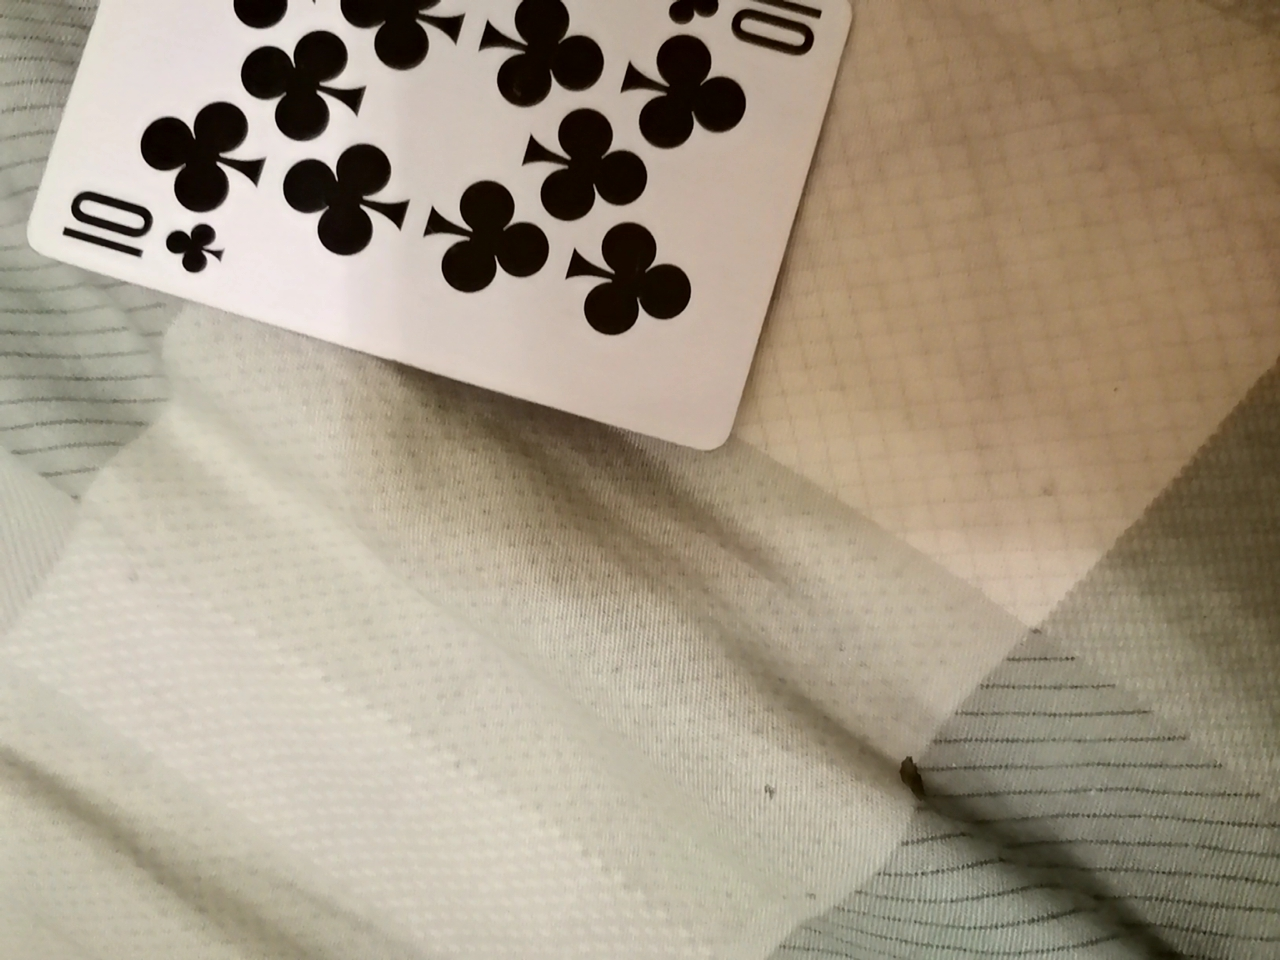mh 10: (39, 0, 875, 451)
